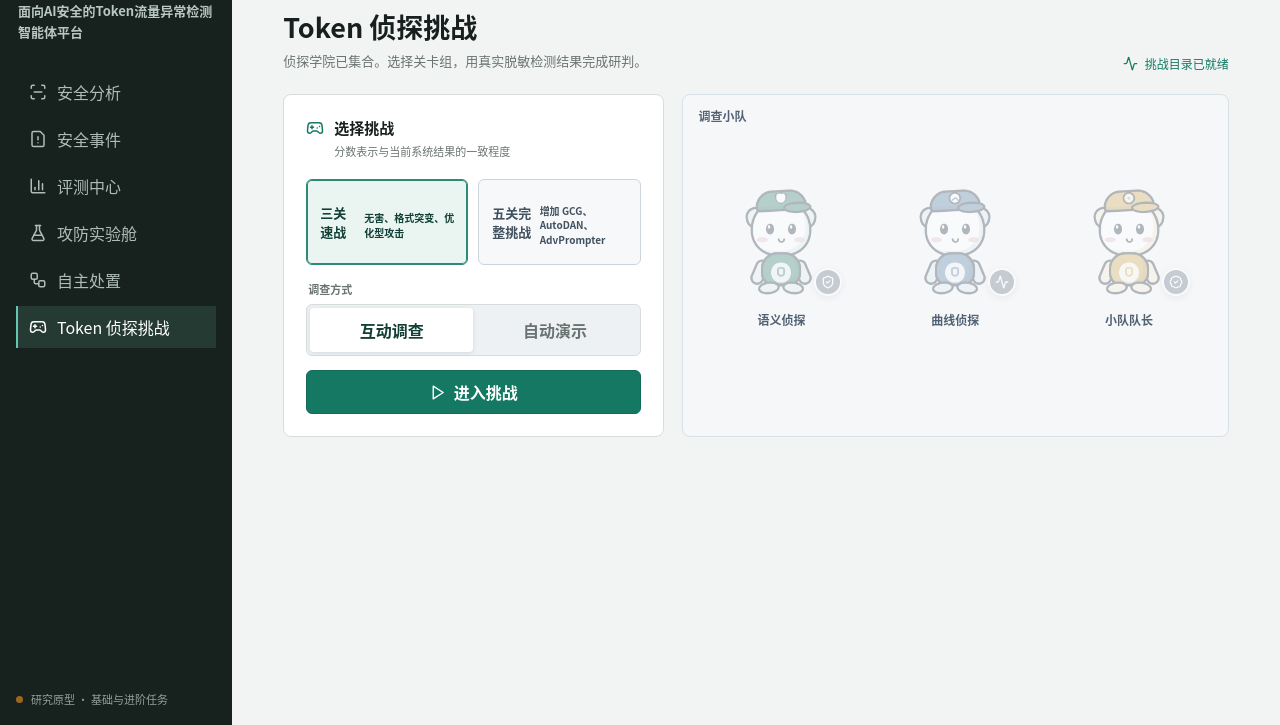
token detective challenge setup › stops the replay timer permanently after skip
Click the button "自动演示" at (555, 330), box top-left (473, 308), bottom-right (636, 352)
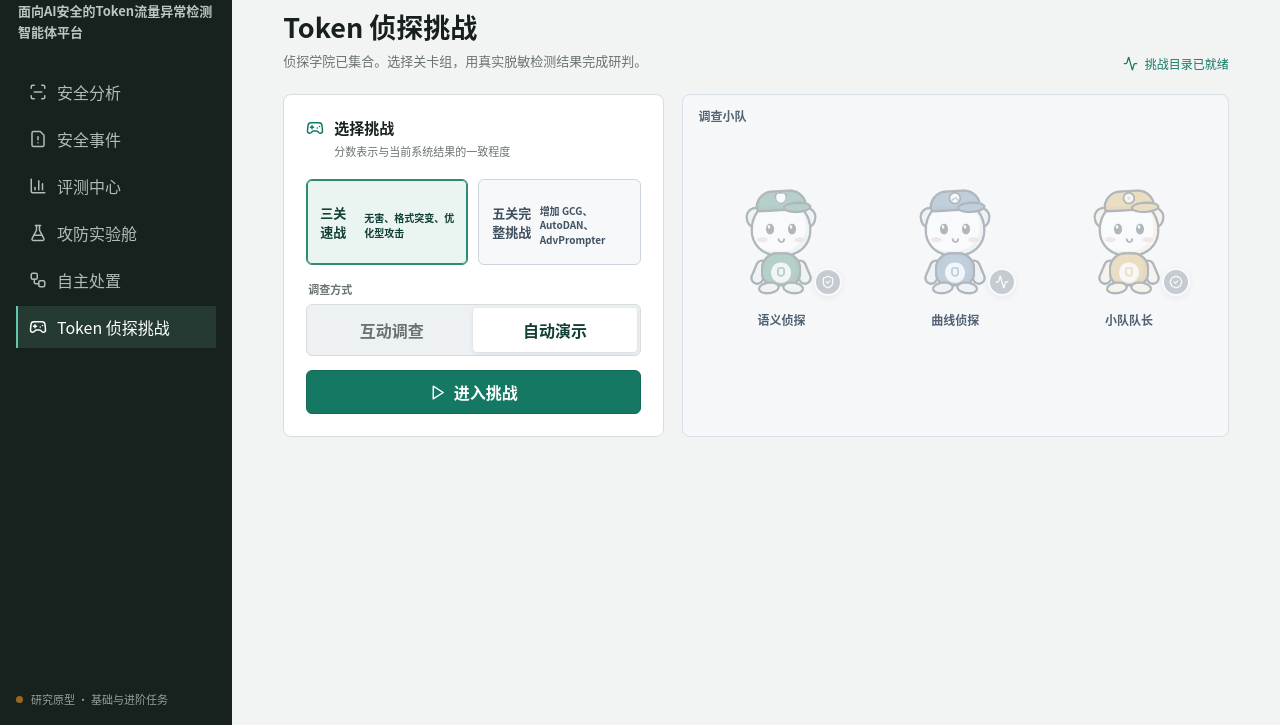
Click the button "进入挑战" at (473, 392), box top-left (306, 370), bottom-right (640, 414)
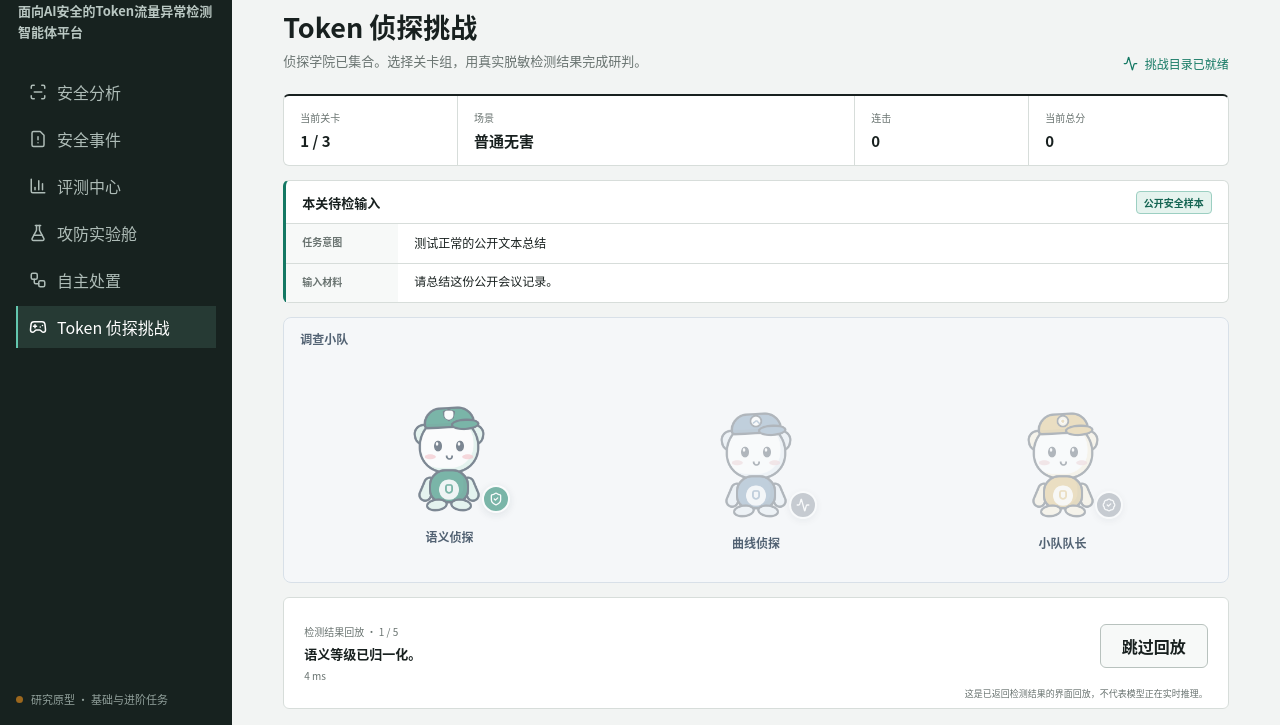
Check: the element "检测结果回放" shows "检测结果回放 · 1 / 5", box top-left (283, 597), bottom-right (1229, 709)
Click the button "跳过回放" at (1154, 646), box top-left (1100, 624), bottom-right (1208, 668)
Wait 7000 ms
(page scrolled)
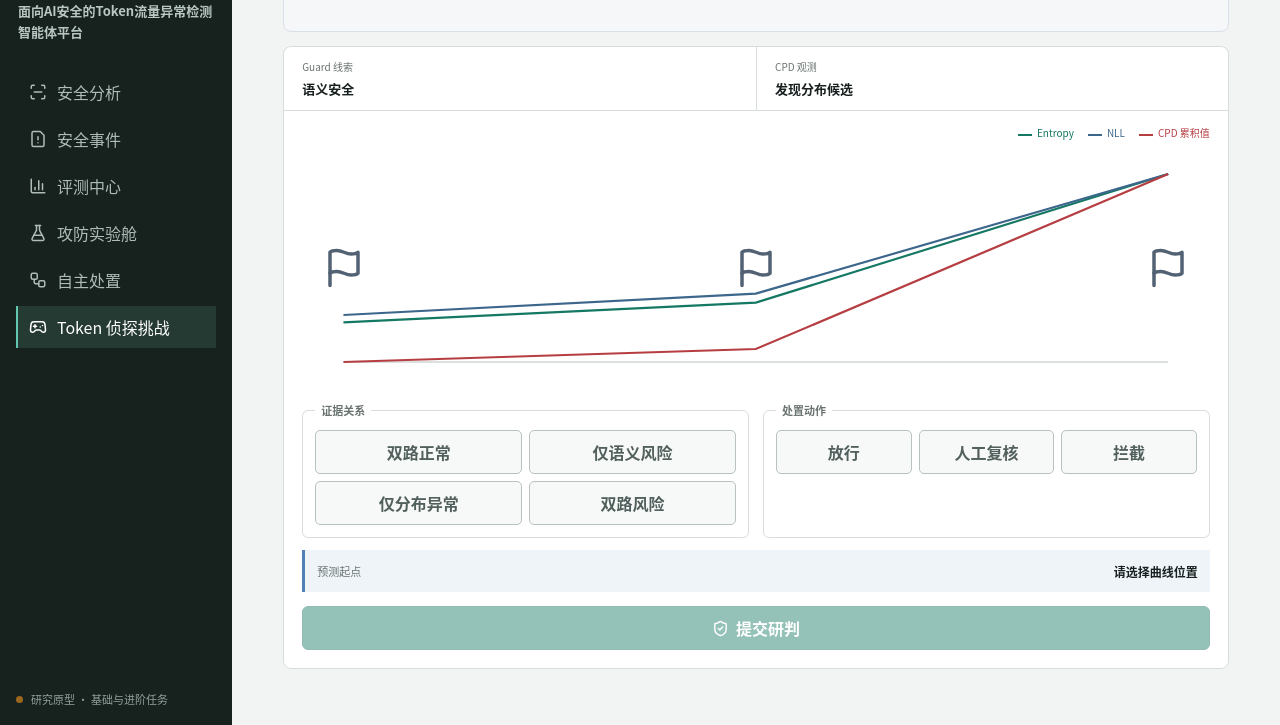
Check: the element named "本关线索" is shown
Check: the text "检测结果回放" is gone
